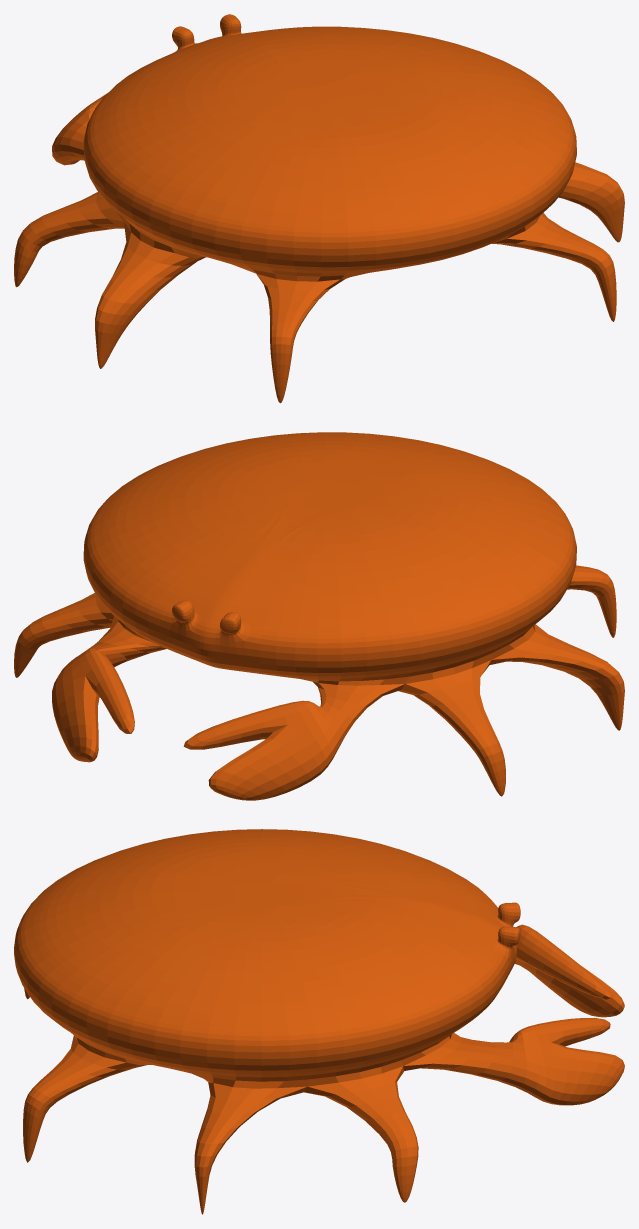
File: Crab.fbx
The picture shows the model from 3 angles, top to bottom: view 1: azimuth 30°, elevation 25°; view 2: azimuth 150°, elevation 25°; view 3: azimuth 270°, elevation 25°; orthographic projection.
Parts seen in each view (by area): view 1: Circle; view 2: Circle; view 3: Circle.
Boxes of the visible parts, x1=… form: Circle: x1=14, y1=14, x2=624, y2=403; Circle: x1=14, y1=432, x2=624, y2=800; Circle: x1=14, y1=829, x2=624, y2=1214.
Bounding box in the file's own units: 239 × 84.81 × 238.
